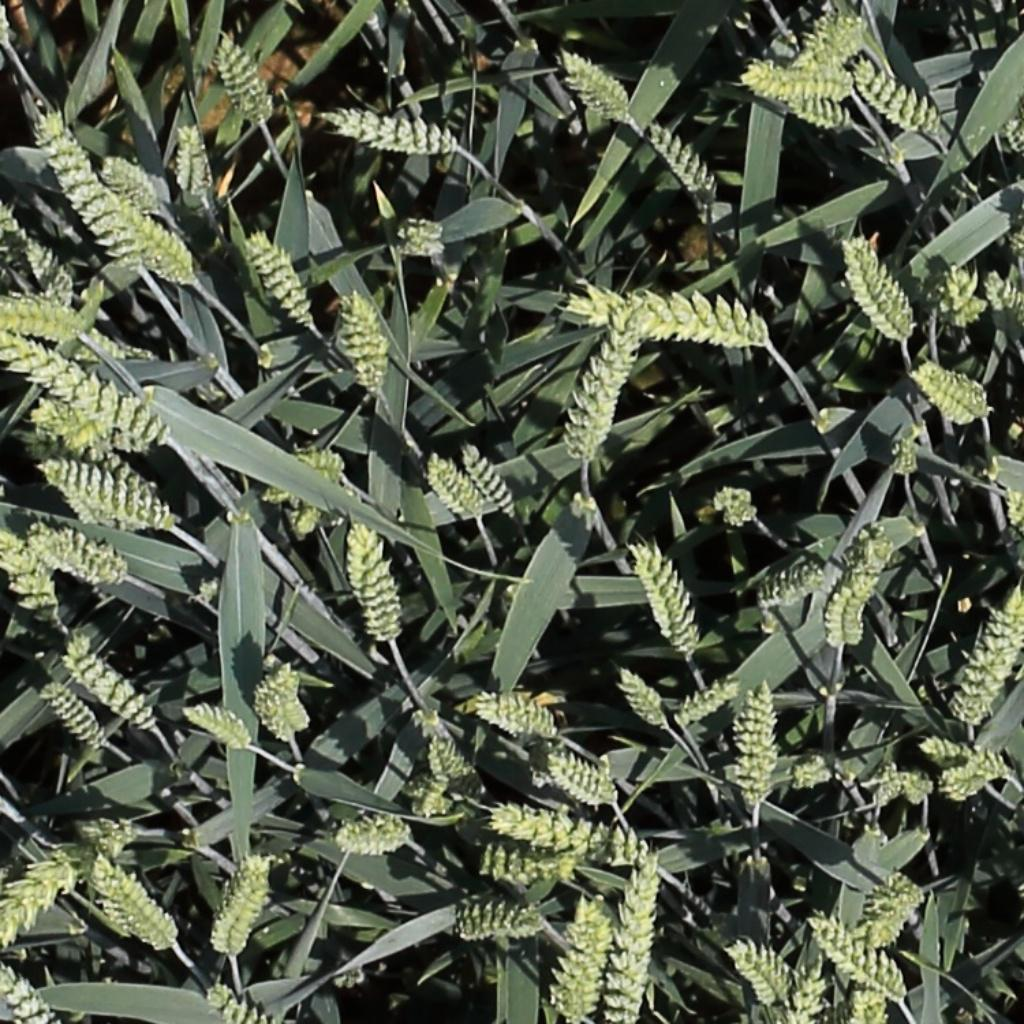0-0: (39, 113, 145, 280), (1, 817, 136, 946), (0, 333, 167, 437), (562, 302, 641, 472), (565, 285, 781, 347), (26, 396, 146, 490), (485, 799, 657, 860), (946, 591, 1024, 720), (61, 641, 159, 733), (811, 916, 907, 1002), (632, 540, 701, 659), (743, 62, 853, 133), (609, 866, 659, 1020), (93, 859, 174, 953), (204, 856, 273, 964), (907, 352, 999, 432), (846, 233, 913, 342), (555, 891, 610, 1020), (243, 230, 316, 327), (56, 458, 168, 520), (456, 436, 528, 527), (112, 206, 193, 284), (250, 441, 364, 496), (857, 61, 944, 133), (731, 679, 780, 806), (647, 117, 720, 202), (350, 521, 400, 641), (781, 10, 868, 76), (214, 28, 273, 125), (418, 707, 491, 782), (327, 109, 454, 152), (753, 963, 838, 1024), (0, 527, 60, 611), (40, 681, 107, 756), (468, 683, 559, 738), (561, 50, 634, 117), (31, 529, 122, 580), (343, 293, 386, 400), (446, 895, 548, 939), (424, 451, 487, 522), (257, 658, 318, 731), (19, 232, 87, 296), (614, 663, 673, 734), (778, 754, 870, 798), (731, 942, 793, 1007), (866, 883, 925, 951), (476, 845, 578, 883), (547, 755, 617, 808), (169, 119, 213, 203), (921, 741, 1015, 780), (101, 152, 162, 212), (856, 522, 893, 620), (933, 263, 987, 330), (329, 809, 406, 854), (757, 67, 854, 101), (675, 681, 745, 727), (825, 575, 864, 657), (193, 577, 275, 616), (0, 962, 53, 1021), (4, 300, 84, 339), (184, 707, 253, 752), (983, 266, 1024, 335), (759, 567, 826, 606), (300, 486, 340, 551), (206, 983, 267, 1024), (394, 217, 453, 258), (703, 491, 768, 528), (402, 779, 455, 818), (945, 764, 986, 813), (865, 765, 903, 817), (62, 495, 120, 529), (844, 982, 887, 1024), (428, 739, 459, 796), (892, 430, 924, 483), (0, 206, 26, 271), (901, 769, 940, 811)
